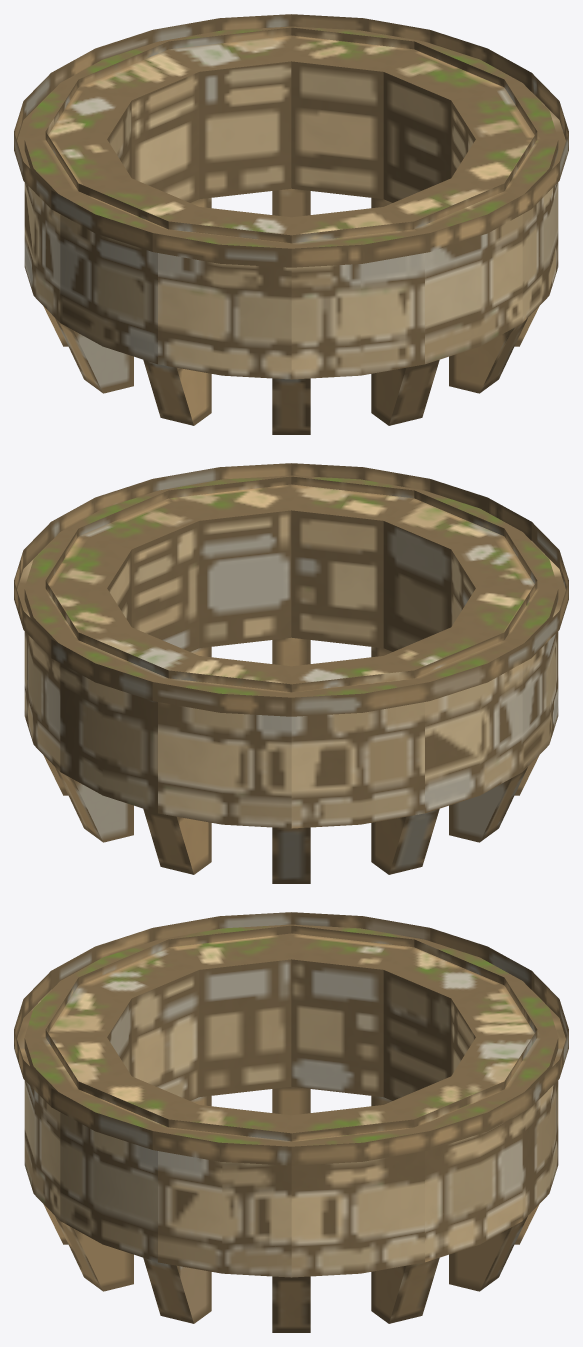
Rendered from Kit_Keep_TurretCrown.fbx.
3 views of the same model, one above another, from view 1: azimuth 30°, elevation 25°; view 2: azimuth 150°, elevation 25°; view 3: azimuth 270°, elevation 25° (orthographic).
Parts seen in each view (by area): view 1: Kit_Keep_TurretCrown_LOD0; view 2: Kit_Keep_TurretCrown_LOD0; view 3: Kit_Keep_TurretCrown_LOD0.
Part boxes in pixels (x1=…): Kit_Keep_TurretCrown_LOD0: x1=14, y1=14, x2=568, y2=434; Kit_Keep_TurretCrown_LOD0: x1=14, y1=463, x2=568, y2=883; Kit_Keep_TurretCrown_LOD0: x1=14, y1=912, x2=568, y2=1332.
Size of what is drawn, in the model's own units: 3.16 by 1.3 by 3.16.
1 material, 1 textured.
